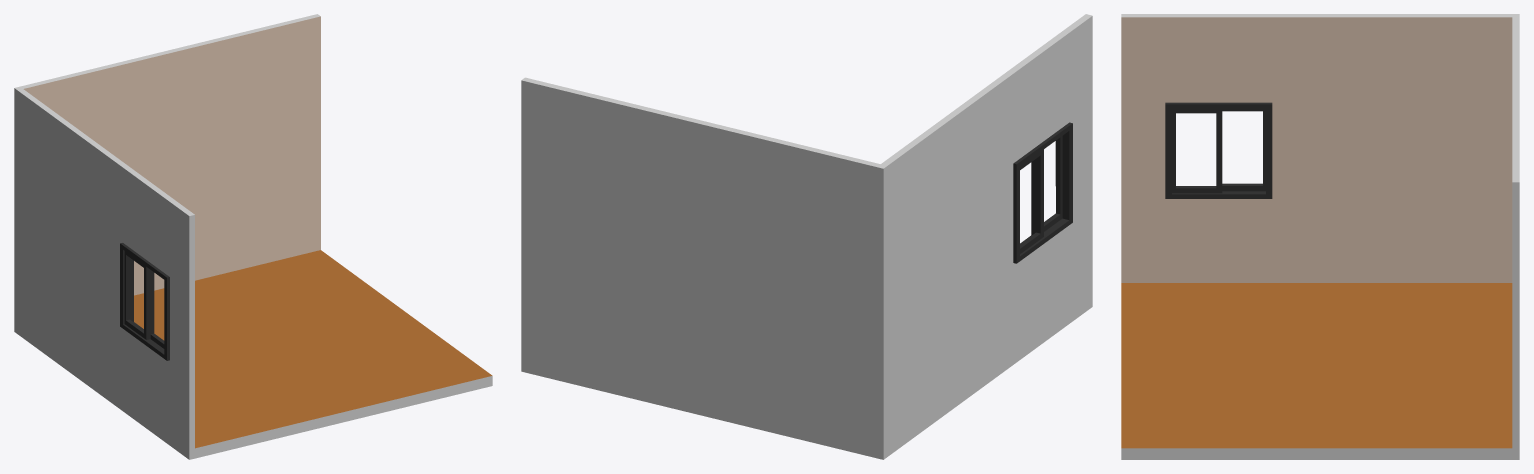
Rendered from Room_1.fbx.
3 renders of one model, left to right at view 1: azimuth 30°, elevation 25°; view 2: azimuth 150°, elevation 25°; view 3: azimuth 270°, elevation 25°, orthographic. The views are drawn at different scales.
Visible parts, largest first — view 1: Room; view 2: Room; view 3: Room.
Part boxes in pixels (box(x1,y1,x2,y2)): Room: box(14, 14, 492, 459); Room: box(521, 14, 1092, 459); Room: box(1121, 14, 1519, 459).
Size of the model in its own units: 1646 by 1252 by 1631.
